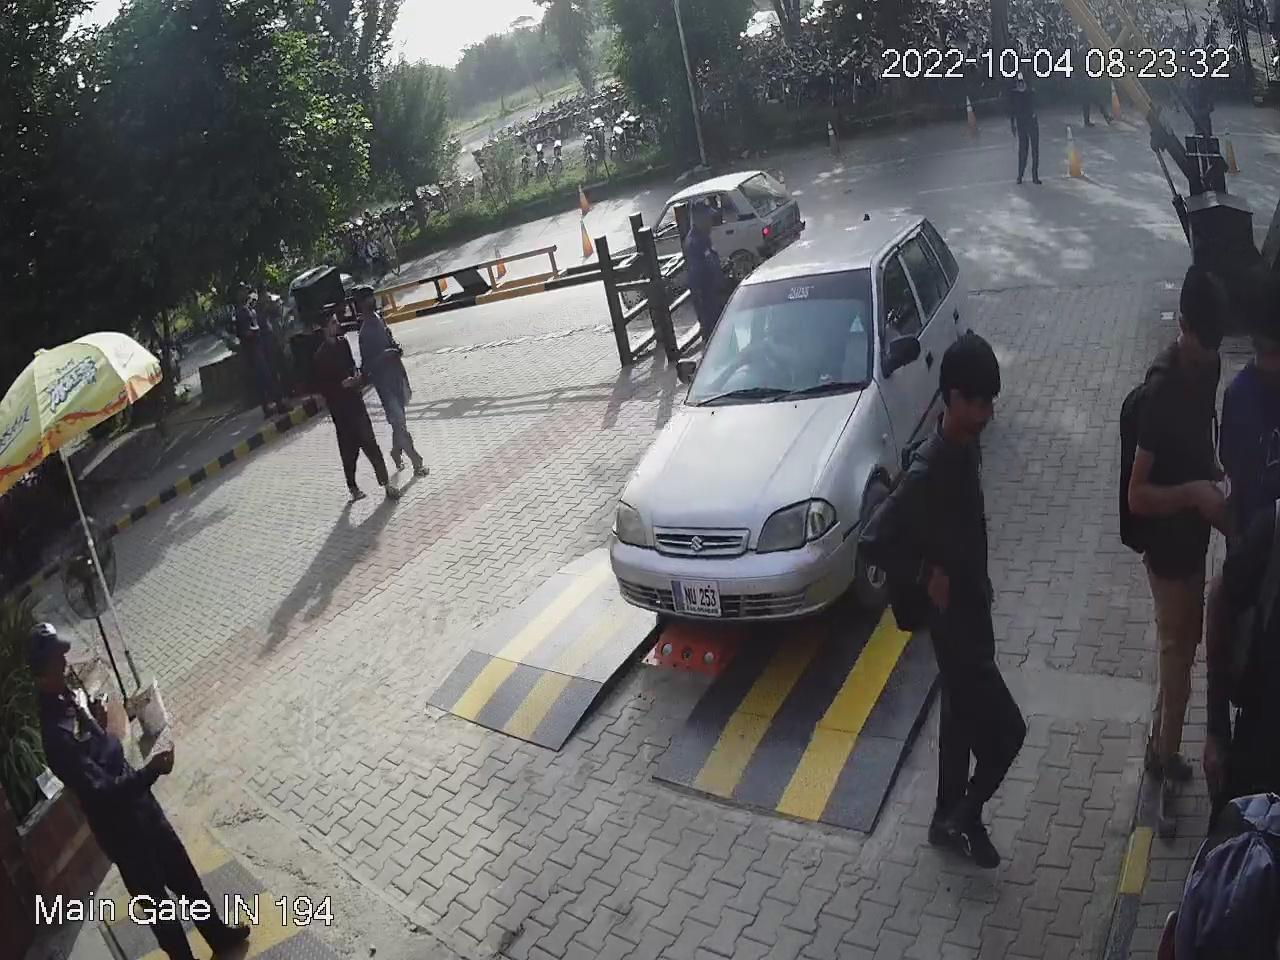windshield: (675, 260, 888, 405)
